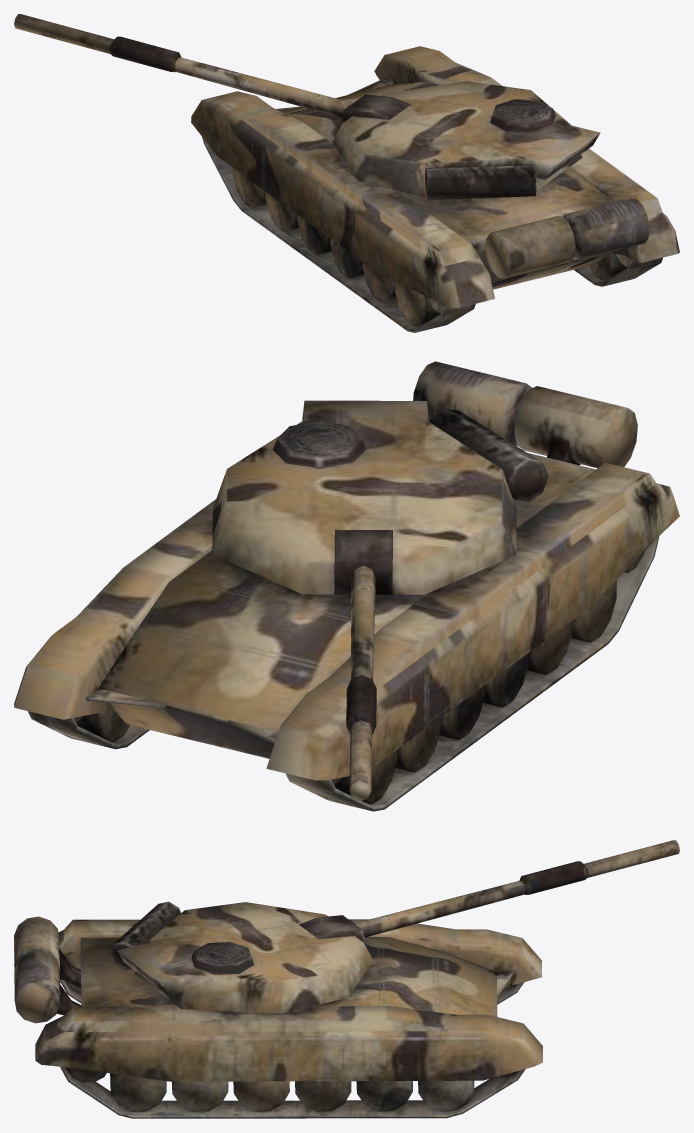
The picture shows the model from 3 angles, top to bottom: view 1: azimuth 30°, elevation 25°; view 2: azimuth 150°, elevation 25°; view 3: azimuth 270°, elevation 25°; orthographic projection. The views are drawn at different scales.
Visible parts, largest first — view 1: t72; view 2: t72; view 3: t72.
Boxes of the visible parts, x1,y1,x2,y2 form: t72: [14, 14, 679, 332]; t72: [14, 361, 679, 811]; t72: [14, 840, 679, 1118].
Bounding box in the file's own units: 5.35 × 2.23 × 9.65.
Materials: 1 (1 with a texture image).
